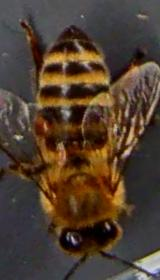varroa_mite: (24, 107, 54, 138)
